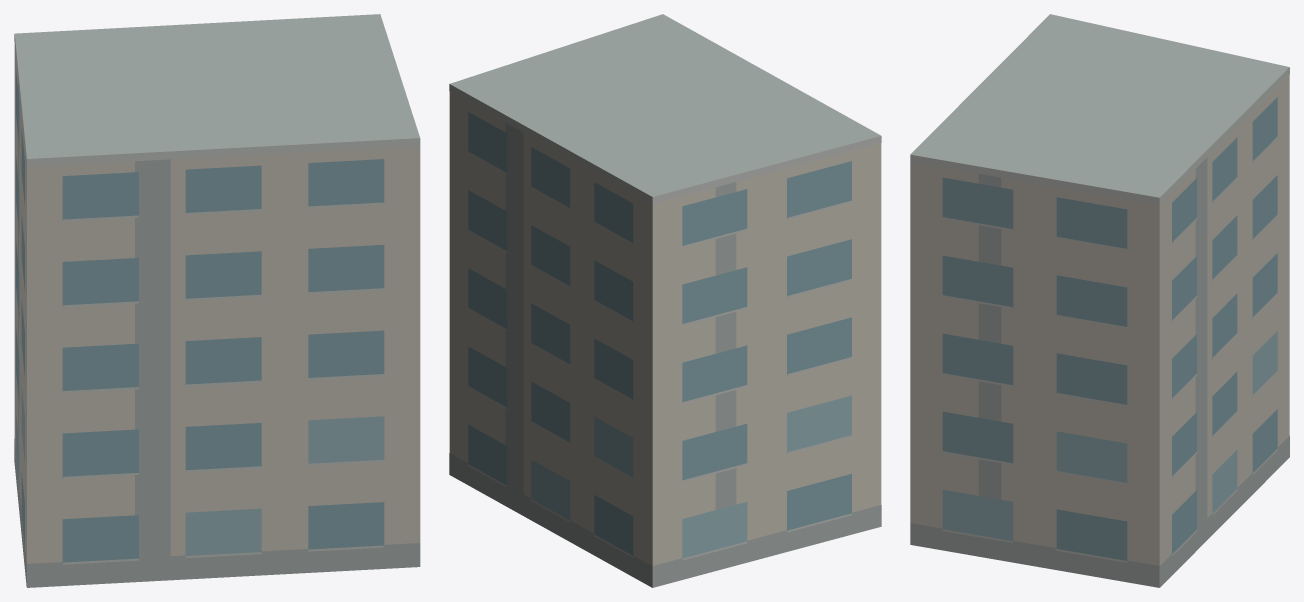
The model's file is survey-upis-33025848.glb.
The picture shows the model from 3 angles, left to right: view 1: azimuth 30°, elevation 25°; view 2: azimuth 150°, elevation 25°; view 3: azimuth 270°, elevation 25°; orthographic projection. The views are drawn at different scales.
Parts seen in each view (by area): view 1: survey-upis-33025848.tmp; view 2: survey-upis-33025848.tmp; view 3: survey-upis-33025848.tmp.
Part boxes in pixels (<box>): survey-upis-33025848.tmp: <box>14,14,420,587</box>; survey-upis-33025848.tmp: <box>449,14,881,587</box>; survey-upis-33025848.tmp: <box>910,14,1289,587</box>.
Bounding box in the file's own units: 13.19 × 13.05 × 11.51.
